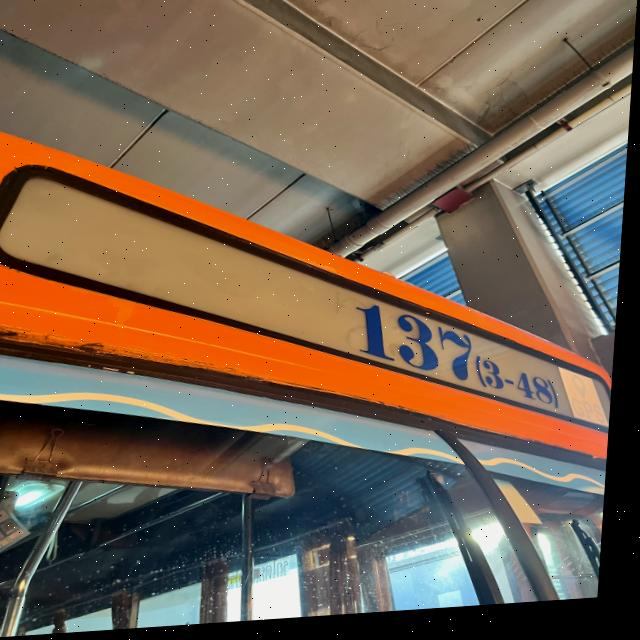BMTA-bus: (0, 91, 633, 640)
Bus-Line-Number: (343, 286, 578, 434)
